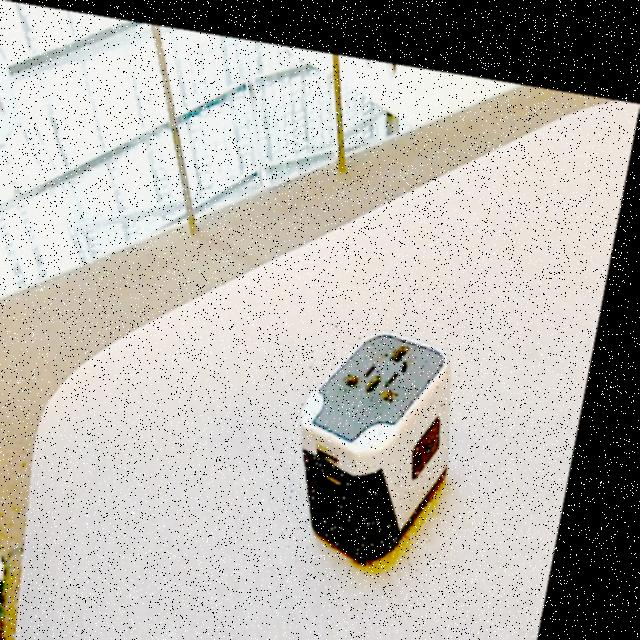adapter: (293, 307, 482, 557)
